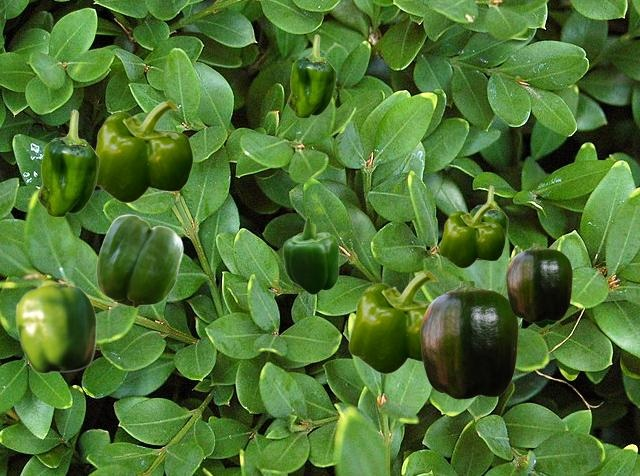bell_pepper: (420, 281, 517, 398), (95, 100, 192, 202), (348, 271, 438, 373), (96, 214, 182, 307), (15, 280, 96, 373), (37, 109, 98, 216), (506, 243, 571, 321), (282, 216, 338, 294), (439, 203, 504, 267), (287, 34, 335, 117), (470, 185, 507, 242), (531, 321, 557, 327)
